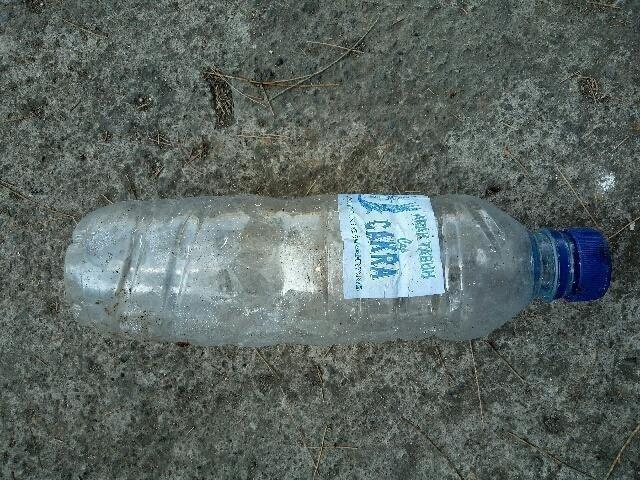bottle-plastic: (62, 190, 612, 348)
